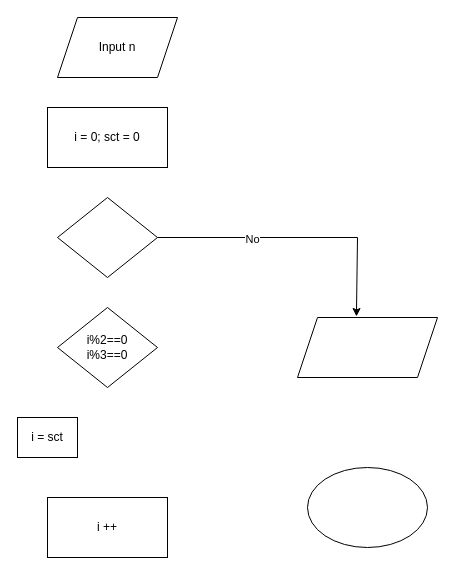
This 455x575 diagram has some shape labels left out. Each missing label, with the centre of its shape:
"Display So can tim" belongs at point 367,347.
"i < n" belongs at point 107,237.
"Stop" belongs at point 367,507.
